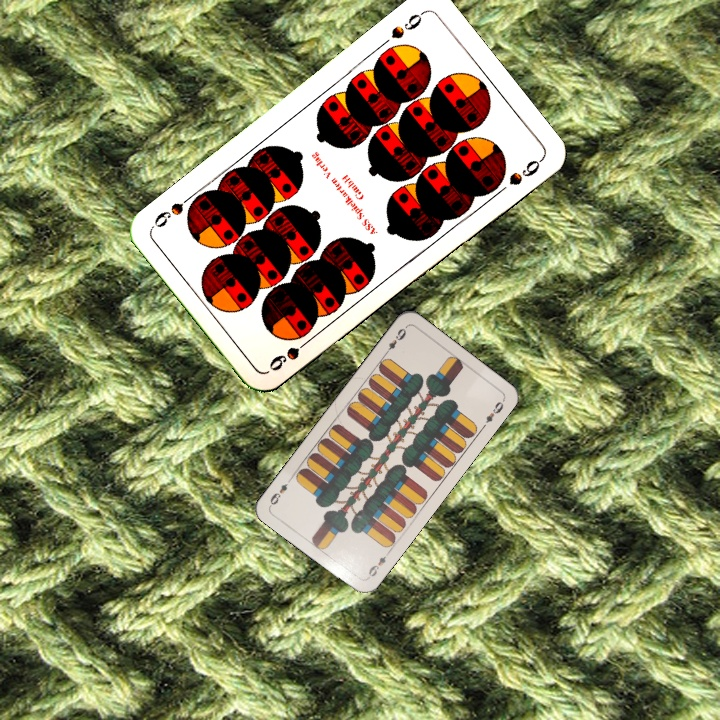E9: (380, 323, 409, 358), (363, 547, 392, 582)
S9: (265, 333, 316, 374), (387, 7, 428, 42)
